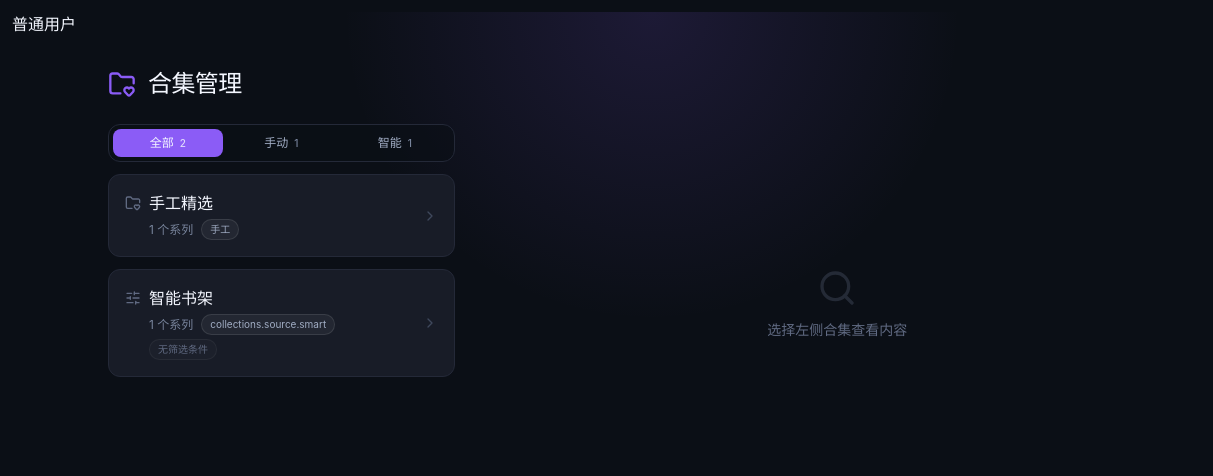
Test case: 合集页的管理员动作 › 普通用户进合集后看得到成员，但没有改名、快照与移除成员
Expected: the text "普通用户" is shown, x1=12 y1=14 x2=76 y2=34
Click the text "手工精选" at (181, 203), box x1=149 y1=191 x2=213 y2=215
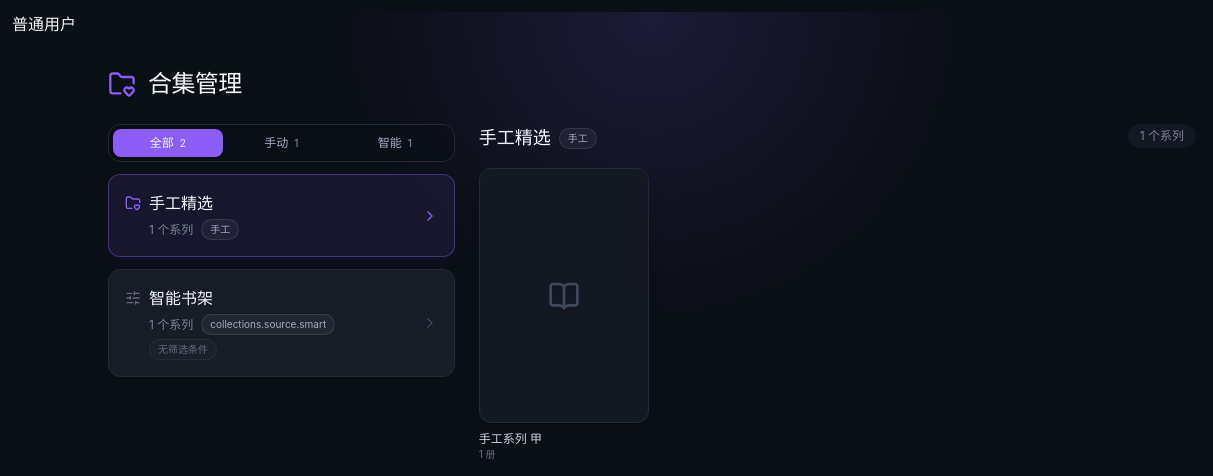
Expected: the text "手工系列 甲" is shown, x1=479 y1=432 x2=542 y2=446
